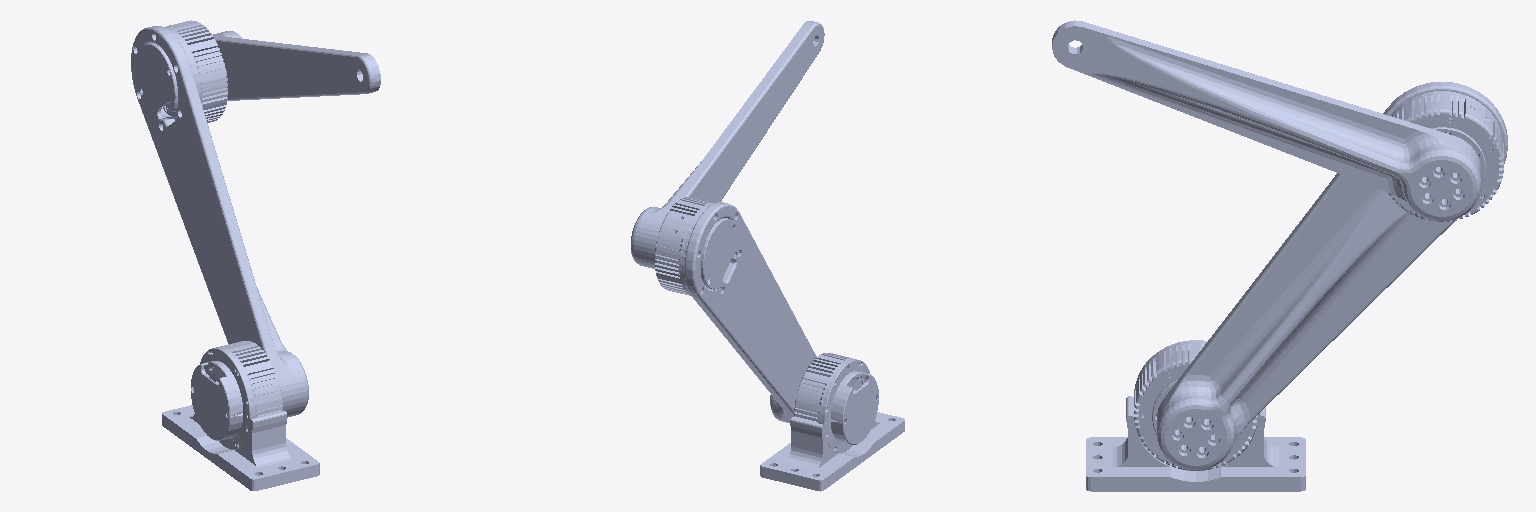
The robot description file, URDF, robot "fyp_robot_assem":
<?xml version="1.0" encoding="utf-8"?>
<!-- This URDF was automatically created by SolidWorks to URDF Exporter! Originally created by [author] ([email redacted]) 
     Commit Version: 1.6.0-4-g7f85cfe  Build Version: 1.6.7995.38578
     For more information, please see http://wiki.ros.org/sw_urdf_exporter -->
<robot
  name="fyp_robot_assem">
  <link
    name="base_link">
    <inertial>
      <origin
        xyz="-7.44820943585214E-19 6.34716978011748E-18 -6.21763570297222E-18"
        rpy="0 0 0" />
      <mass
        value="0.102173035023111" />
      <inertia
        ixx="0.000173628939136584"
        ixy="-2.06795153138257E-22"
        ixz="-2.58069691561311E-21"
        iyy="3.3437674543937E-05"
        iyz="-1.53367127294211E-20"
        izz="0.000190799013457422" />
    </inertial>
    <visual>
      <origin
        xyz="0 0 0"
        rpy="0 0 0" />
      <geometry>
        <mesh
          filename="package://fyp_robot_assem/meshes/base_link.STL" />
      </geometry>
      <material
        name="">
        <color
          rgba="0.792156862745098 0.819607843137255 0.933333333333333 1" />
      </material>
    </visual>
    <collision>
      <origin
        xyz="0 0 0"
        rpy="0 0 0" />
      <geometry>
        <mesh
          filename="package://fyp_robot_assem/meshes/base_link.STL" />
      </geometry>
    </collision>
  </link>
  <link
    name="link1">
    <inertial>
      <origin
        xyz="-0.0657997468109079 -0.0817969250537129 0.0083306230425552"
        rpy="0 0 0" />
      <mass
        value="0.234233661750754" />
      <inertia
        ixx="0.00106404720156785"
        ixy="-0.000783519338943125"
        ixz="-3.82085352502186E-05"
        iyy="0.000719862931747711"
        iyz="-4.7511460484771E-05"
        izz="0.00176266259552597" />
    </inertial>
    <visual>
      <origin
        xyz="0 0 0"
        rpy="0 0 0" />
      <geometry>
        <mesh
          filename="package://fyp_robot_assem/meshes/link1.STL" />
      </geometry>
      <material
        name="">
        <color
          rgba="0.792156862745098 0.819607843137255 0.933333333333333 1" />
      </material>
    </visual>
    <collision>
      <origin
        xyz="0 0 0"
        rpy="0 0 0" />
      <geometry>
        <mesh
          filename="package://fyp_robot_assem/meshes/link1.STL" />
      </geometry>
    </collision>
  </link>
  <joint
    name="joint1"
    type="continuous">
    <origin
      xyz="0.0175 0 0.0373735903262573"
      rpy="-1.5707963267949 0 -1.5707963267949" />
    <parent
      link="base_link" />
    <child
      link="link1" />
    <axis
      xyz="0 0 1" />
  </joint>
  <link
    name="link2">
    <inertial>
      <origin
        xyz="0.0789212285408835 -0.0303808902954582 0.00963591178429082"
        rpy="0 0 0" />
      <mass
        value="0.175905996218137" />
      <inertia
        ixx="0.00017227438622824"
        ixy="0.000365466989567327"
        ixz="3.99146063092048E-05"
        iyy="0.000981842005073185"
        iyz="-1.53529753077901E-05"
        izz="0.00113539435383725" />
    </inertial>
    <visual>
      <origin
        xyz="0 0 0"
        rpy="0 0 0" />
      <geometry>
        <mesh
          filename="package://fyp_robot_assem/meshes/link2.STL" />
      </geometry>
      <material
        name="">
        <color
          rgba="0.792156862745098 0.819607843137255 0.933333333333333 1" />
      </material>
    </visual>
    <collision>
      <origin
        xyz="0 0 0"
        rpy="0 0 0" />
      <geometry>
        <mesh
          filename="package://fyp_robot_assem/meshes/link2.STL" />
      </geometry>
    </collision>
  </link>
  <joint
    name="joint2"
    type="continuous">
    <origin
      xyz="-0.156657030121427 -0.194776017515082 0.0425"
      rpy="0 0 0" />
    <parent
      link="link1" />
    <child
      link="link2" />
    <axis
      xyz="0 0 1" />
  </joint>
</robot>

--- Facts derived from the render (not from the file) ---
The picture shows the robot from 3 angles, left to right: view 1: azimuth 30°, elevation 25°; view 2: azimuth 150°, elevation 25°; view 3: azimuth 270°, elevation 25°; orthographic projection.
Model fyp_robot_assem with 3 links and 2 joints (2 continuous), rooted at base_link, posed every joint at zero.
Links seen in each view (by area): view 1: link1, base_link, link2; view 2: link1, base_link, link2; view 3: link1, link2, base_link.
Boxes of the visible links, <box> form: link1: <box>131,20,308,417</box>; base_link: <box>162,341,319,490</box>; link2: <box>213,31,380,100</box>; link1: <box>655,197,816,422</box>; base_link: <box>760,353,904,491</box>; link2: <box>631,21,824,268</box>; link1: <box>1157,82,1507,470</box>; link2: <box>1052,20,1480,220</box>; base_link: <box>1086,340,1305,491</box>.
Bounding box of the posed robot: 0.12 × 0.2903 × 0.3456 m (x, y, z).
3 mesh visuals loaded from 3 distinct referenced files (3 binary STL).